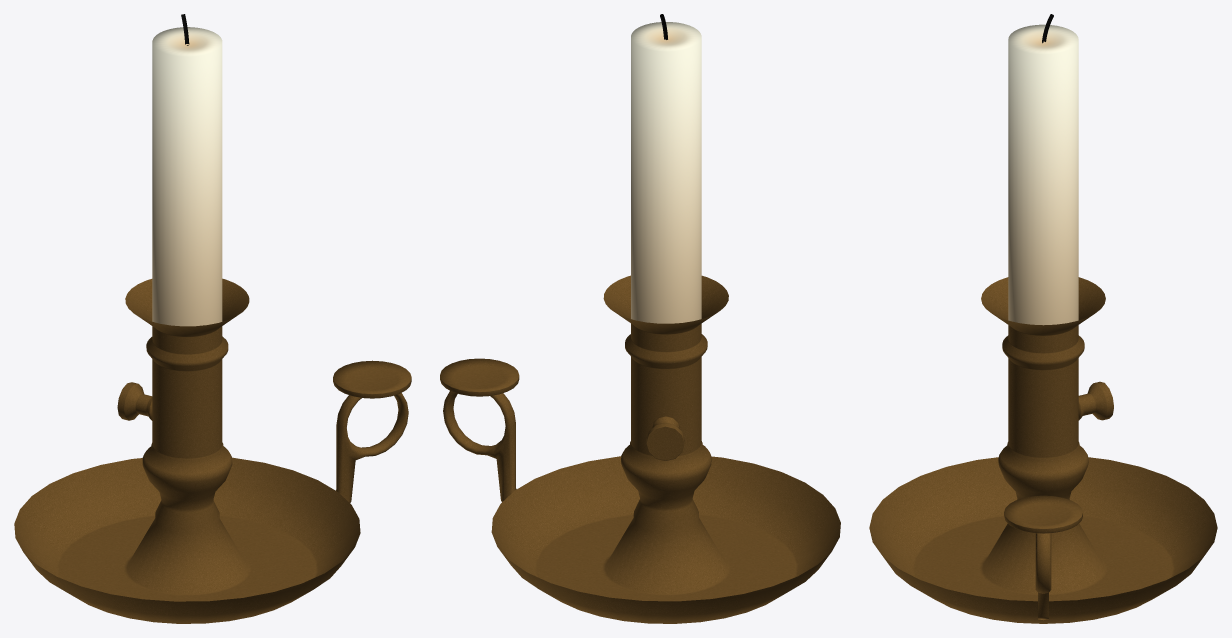
Rendered from CandleStickAndHolder.glb.
The picture shows the model from 3 angles, left to right: view 1: azimuth 30°, elevation 25°; view 2: azimuth 150°, elevation 25°; view 3: azimuth 270°, elevation 25°; orthographic projection.
Parts seen in each view (by area): view 1: CandleHolder, Candle.Body, CandleHolder.FingerThingy, CangleHolder.PinThingy; view 2: CandleHolder, Candle.Body, CandleHolder.FingerThingy, CangleHolder.PinThingy; view 3: CandleHolder, Candle.Body, CandleHolder.FingerThingy, CangleHolder.PinThingy.
Part boxes in pixels (x1,y1,x2,y2): CandleHolder: (14,278,360,623); Candle.Body: (152,27,222,326); CandleHolder.FingerThingy: (333,360,411,502); CangleHolder.PinThingy: (117,382,152,420); CandleHolder: (491,275,840,623); Candle.Body: (631,22,701,323); CandleHolder.FingerThingy: (440,358,519,501); CangleHolder.PinThingy: (646,416,684,460); CandleHolder: (869,277,1217,623); Candle.Body: (1008,24,1078,325); CandleHolder.FingerThingy: (1004,495,1082,620); CangleHolder.PinThingy: (1078,381,1113,420).
Size of the model in its own units: 0.2209 by 0.315 by 0.1795.
Materials: 1 (1 with a texture image).
